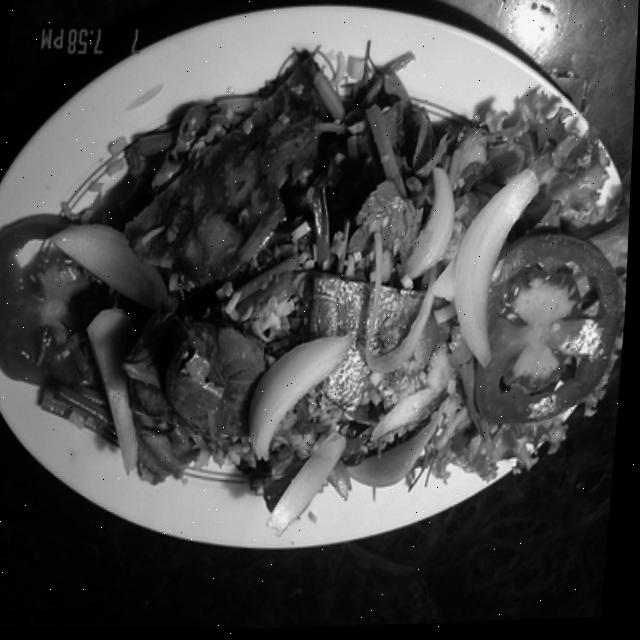猪肉菜式: (69, 33, 622, 543)
